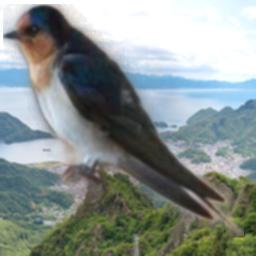Swallow: (3, 4, 244, 236)
